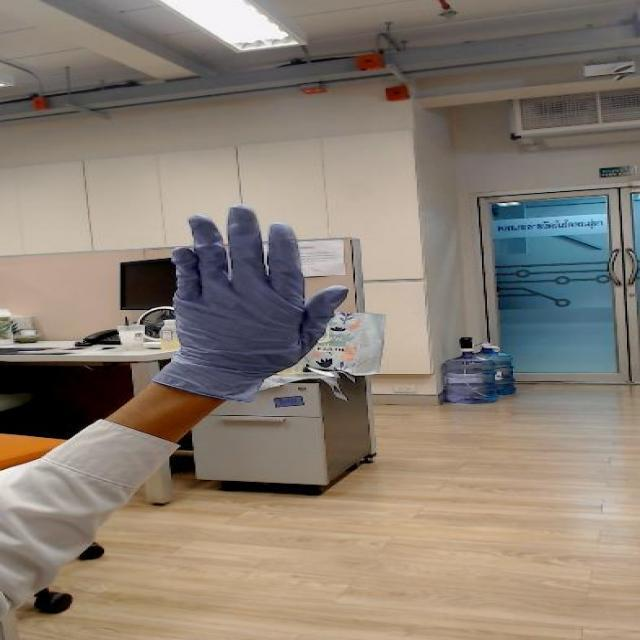Glove: (136, 200, 356, 418)
